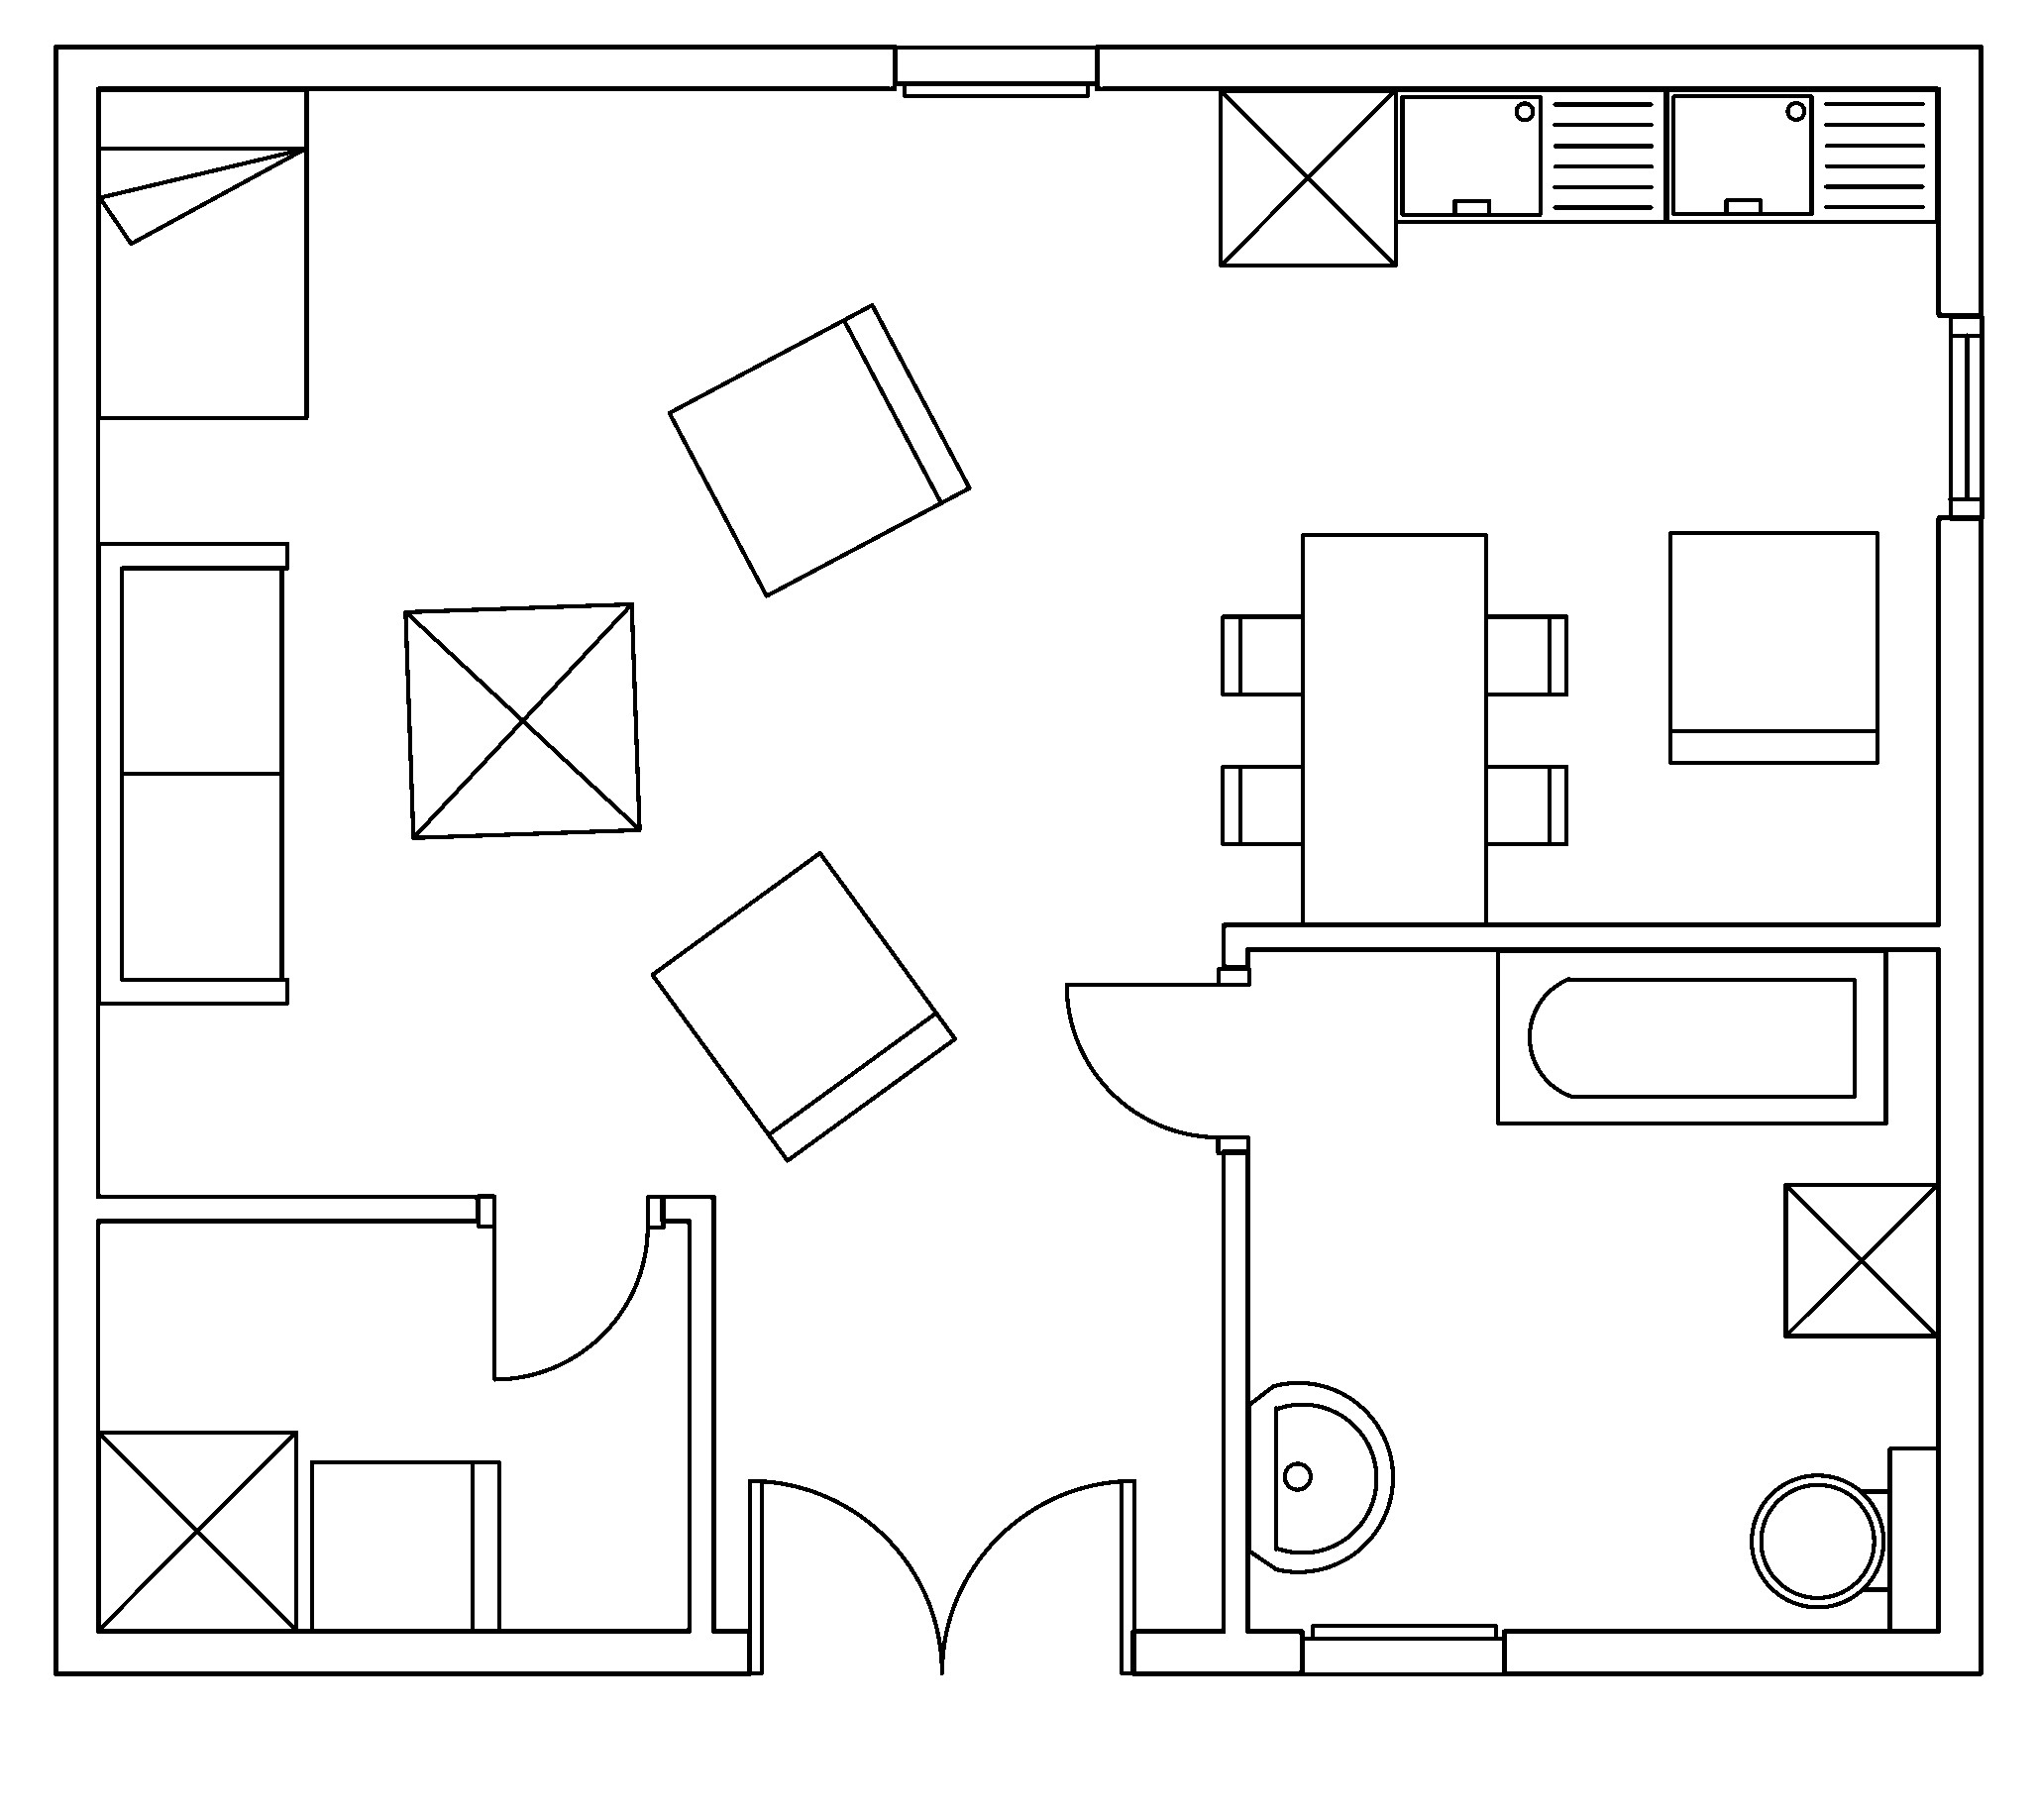bed: (95, 86, 309, 420)
coffee_table: (402, 599, 643, 840), (95, 1428, 299, 1632), (1217, 86, 1398, 267), (1781, 1181, 1940, 1339)
dining_table: (1219, 531, 1568, 926)
large_sink: (1749, 1444, 1940, 1632)
large_sofa: (95, 539, 290, 1005)
sink: (1663, 86, 1940, 223), (1393, 86, 1668, 223)
small_sink: (1245, 1381, 1394, 1572)
small_sofa: (648, 849, 957, 1163), (666, 300, 971, 599), (1666, 529, 1879, 764), (307, 1458, 500, 1632)
tub: (1494, 947, 1888, 1126)
